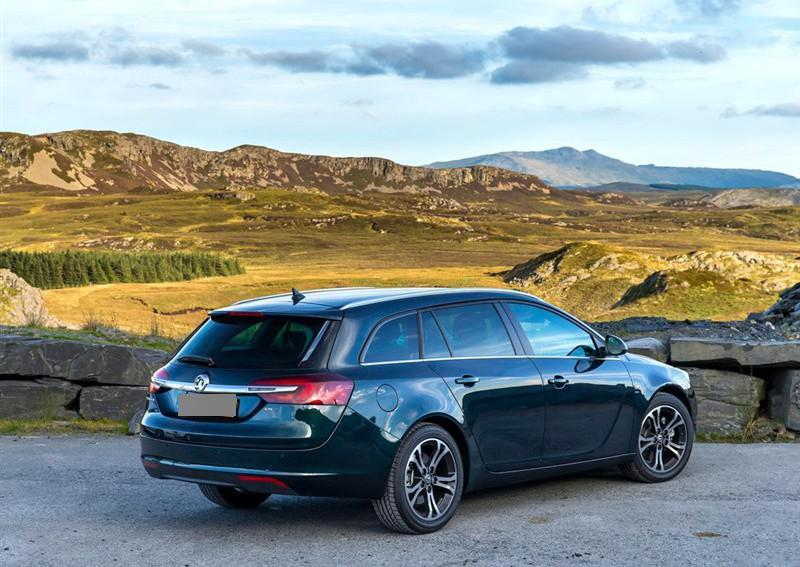Wagon: (141, 284, 698, 535)
